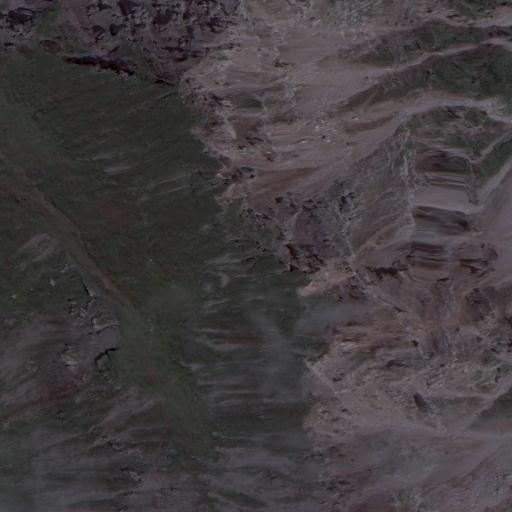landslide: (177, 4, 510, 507)
